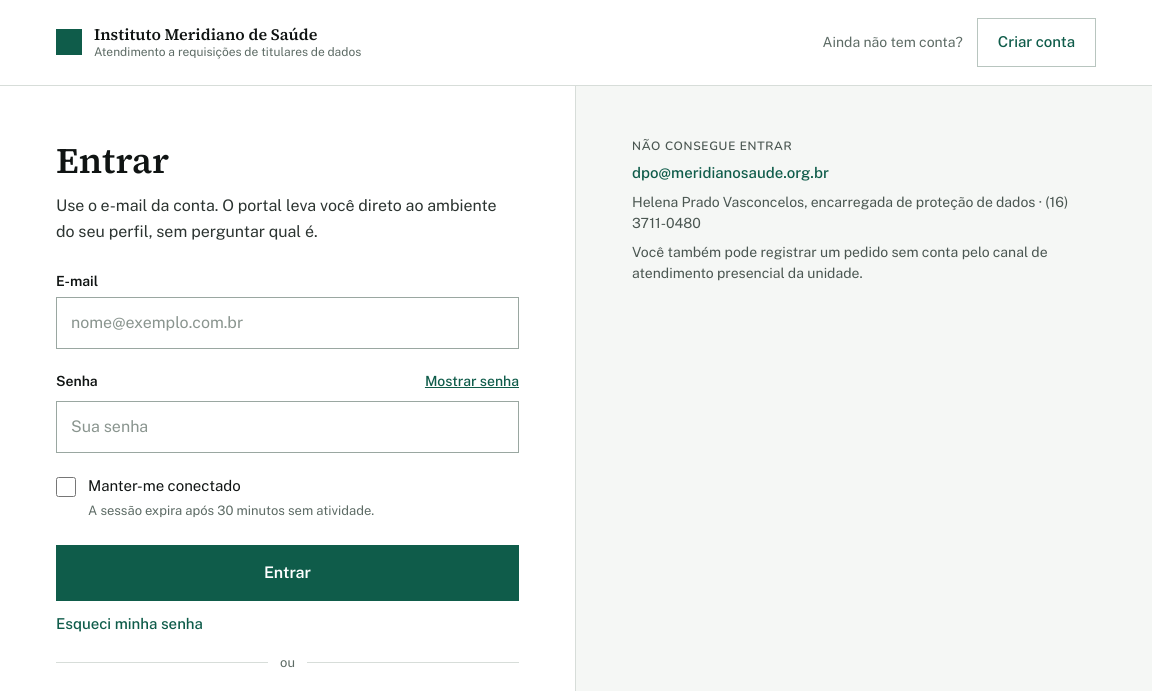
Test: Acesso à conta › alterna a visibilidade da senha
Step 1. Click the button "Mostrar senha" → (472, 381), box [425,367,519,395]
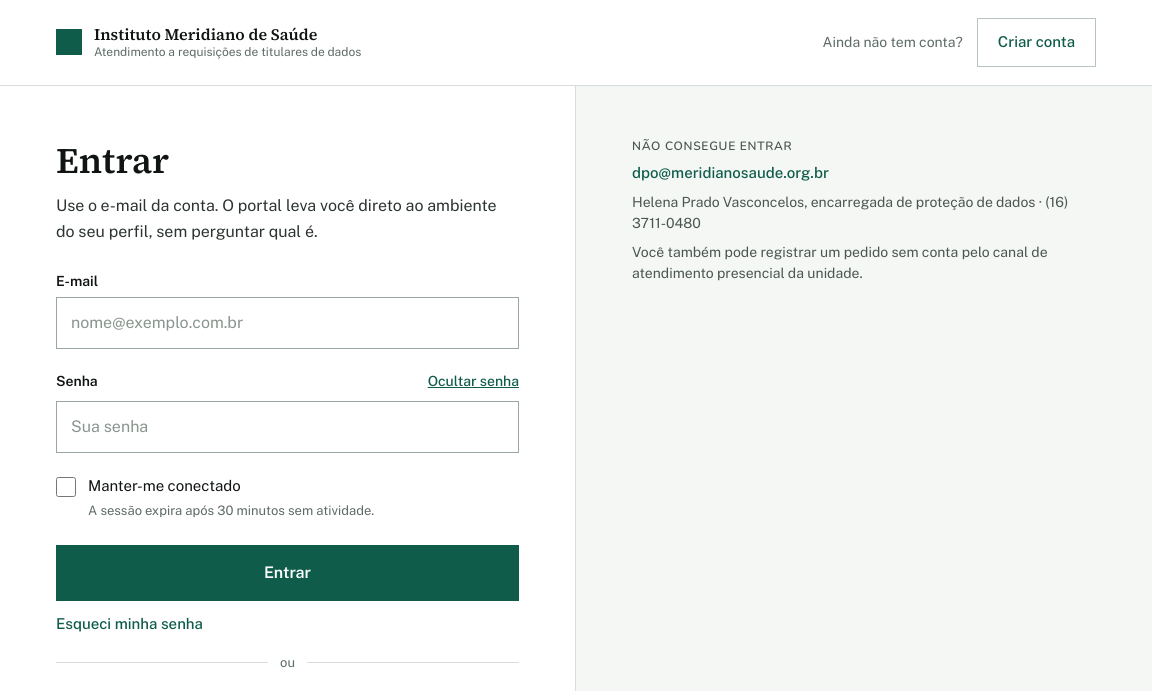
Expected: the button "Ocultar senha" is shown, [428,366,519,394]
